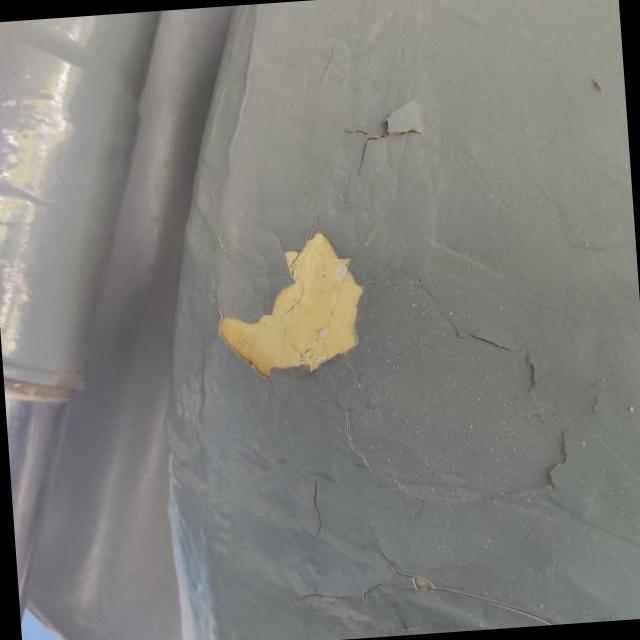Paint-off: (220, 233, 363, 376), (337, 107, 430, 160)
